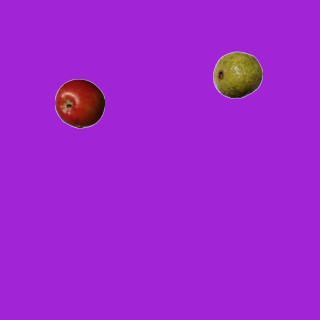Apple Braeburn: (54, 78, 104, 128)
Guava: (212, 49, 262, 99)
